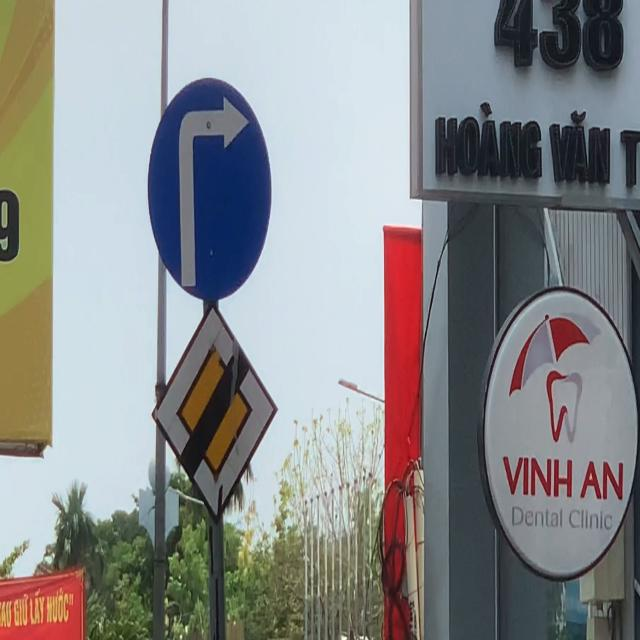Re phai: (147, 78, 272, 302)
